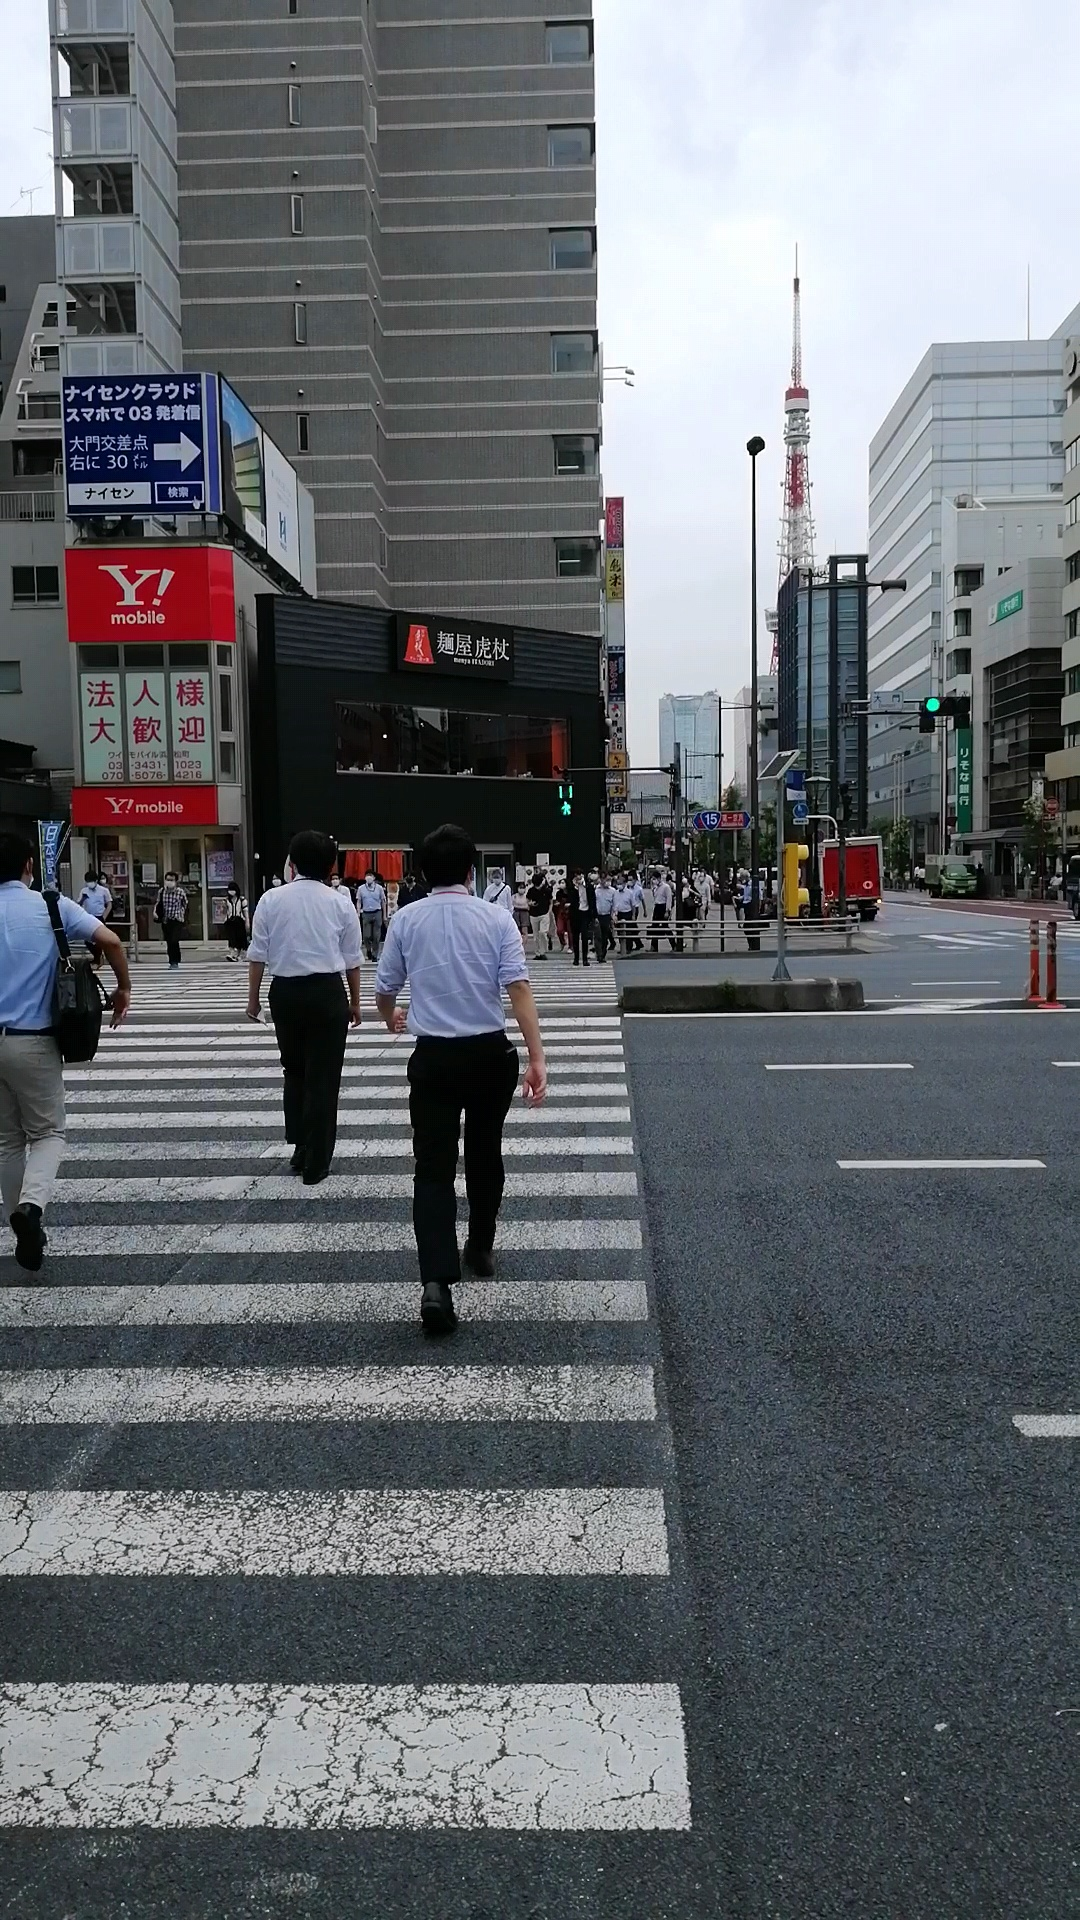green: (554, 781, 576, 819)
